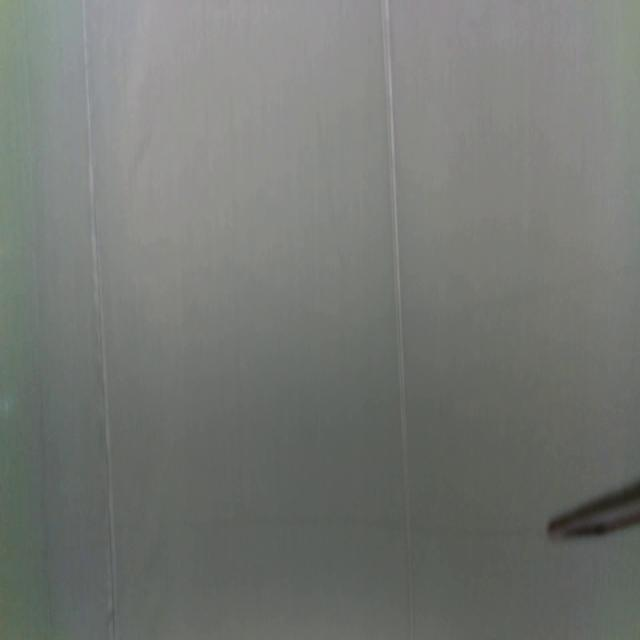color bleeding: (191, 500, 544, 544)
crease: (380, 0, 415, 640), (84, 0, 116, 640), (21, 0, 40, 329)
